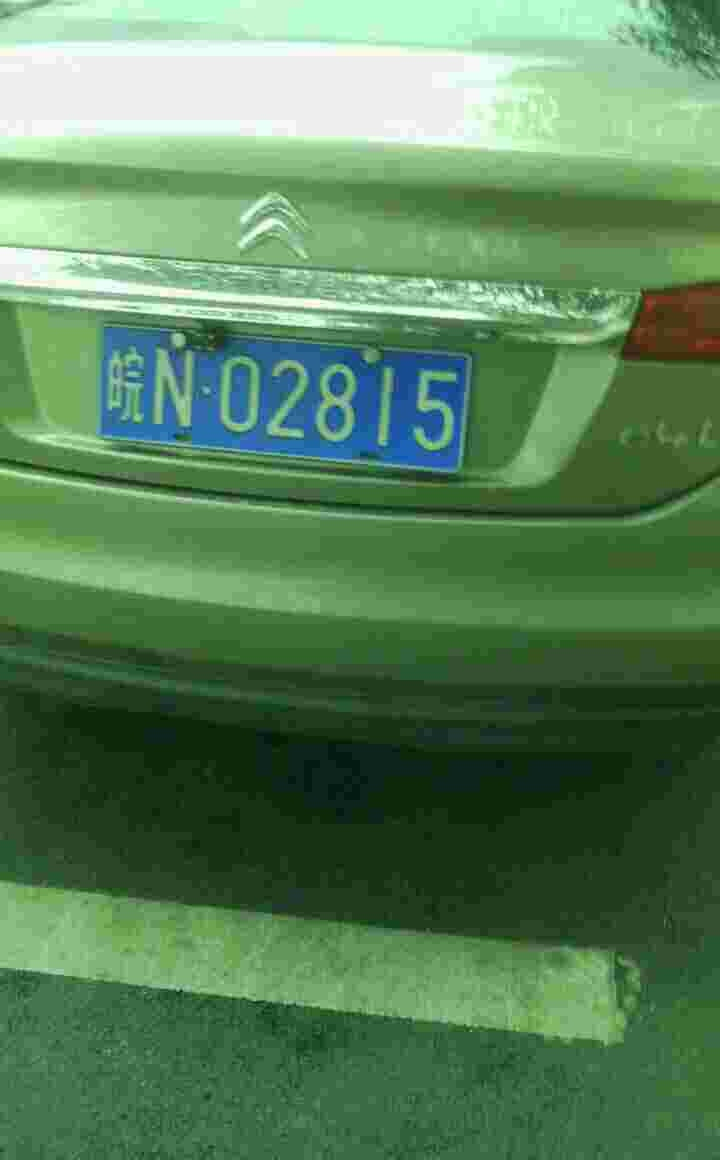license_plate: (106, 327, 454, 465)
